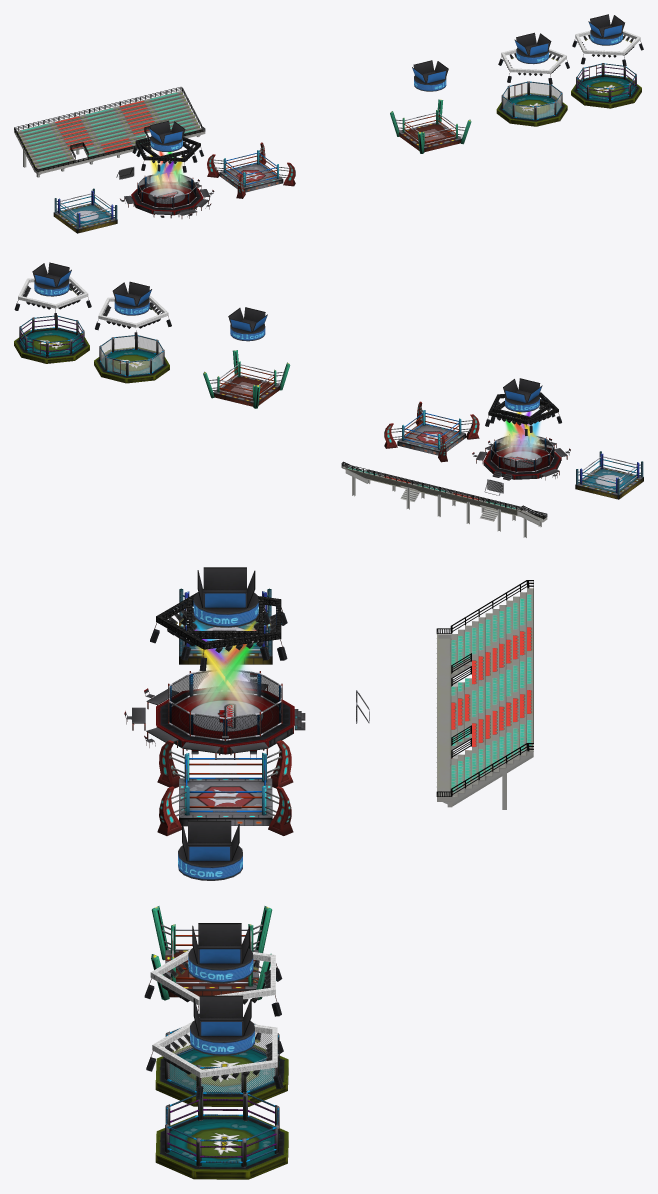
The model's file is street-arena.glb.
3 views of the same model, one above another, from view 1: azimuth 30°, elevation 25°; view 2: azimuth 150°, elevation 25°; view 3: azimuth 270°, elevation 25° (orthographic). The views are drawn at different scales.
Parts seen in each view (by area): view 1: cartoon boxing arena_ stands, cartoon boxing arena 1, cartoon boxing arena 3, cartoon boxing arena 4, cartoon boxing arena 2, cartoon boxing arena 5, cartoon boxing arena 6, cartoon boxing arena_stands fence, cartoon boxing arena 2_fence, cartoon boxing arena 5_Led, cartoon boxing arena 3_Led, cartoon boxing arena 2_Led (+9 smaller); view 2: cartoon boxing arena 3, cartoon boxing arena 1, cartoon boxing arena_ stands, cartoon boxing arena 4, cartoon boxing arena 2, cartoon boxing arena 5, cartoon boxing arena 6, cartoon boxing arena 2_fence, cartoon boxing arena 3_Led, cartoon boxing arena 2_Led, cartoon boxing arena 5_Led, cartoon boxing arena 1_led (+8 smaller); view 3: cartoon boxing arena_ stands, cartoon boxing arena 3, cartoon boxing arena 1, cartoon boxing arena 4, cartoon boxing arena 2, cartoon boxing arena 1_led, cartoon boxing arena 3_Led, cartoon boxing arena 2_Led, cartoon boxing arena 5_Led, cartoon boxing arena 5, cartoon boxing arena 1_Fecen, cartoon boxing arena 3_light systems (+8 smaller).
Part boxes in pixels (bbox=[...]): cartoon boxing arena_ stands: bbox=[14, 91, 205, 177]; cartoon boxing arena 1: bbox=[124, 174, 210, 218]; cartoon boxing arena 3: bbox=[571, 63, 641, 108]; cartoon boxing arena 4: bbox=[207, 142, 295, 198]; cartoon boxing arena 2: bbox=[496, 81, 567, 126]; cartoon boxing arena 5: bbox=[390, 99, 471, 153]; cartoon boxing arena 6: bbox=[53, 188, 117, 233]; cartoon boxing arena_stands fence: bbox=[14, 87, 205, 172]; cartoon boxing arena 2_fence: bbox=[503, 81, 561, 118]; cartoon boxing arena 5_Led: bbox=[412, 60, 448, 91]; cartoon boxing arena 3_Led: bbox=[588, 14, 624, 45]; cartoon boxing arena 2_Led: bbox=[514, 32, 551, 64]; cartoon boxing arena 3: bbox=[14, 315, 89, 363]; cartoon boxing arena 1: bbox=[476, 434, 567, 480]; cartoon boxing arena_ stands: bbox=[342, 466, 547, 537]; cartoon boxing arena 4: bbox=[384, 401, 479, 462]; cartoon boxing arena 2: bbox=[94, 334, 169, 383]; cartoon boxing arena 5: bbox=[203, 350, 290, 408]; cartoon boxing arena 6: bbox=[575, 451, 643, 499]; cartoon boxing arena 2_fence: bbox=[100, 335, 163, 375]; cartoon boxing arena 3_Led: bbox=[32, 262, 71, 296]; cartoon boxing arena 2_Led: bbox=[112, 281, 151, 315]; cartoon boxing arena 5_Led: bbox=[228, 307, 267, 341]; cartoon boxing arena 1_led: bbox=[503, 378, 542, 412]; cartoon boxing arena_ stands: bbox=[437, 588, 533, 809]; cartoon boxing arena 3: bbox=[155, 1092, 288, 1179]; cartoon boxing arena 1: bbox=[146, 670, 294, 759]; cartoon boxing arena 4: bbox=[157, 740, 293, 835]; cartoon boxing arena 2: bbox=[155, 1024, 288, 1106]; cartoon boxing arena 1_led: bbox=[193, 567, 258, 627]; cartoon boxing arena 3_Led: bbox=[190, 995, 254, 1055]; cartoon boxing arena 2_Led: bbox=[188, 923, 253, 983]; cartoon boxing arena 5_Led: bbox=[178, 820, 242, 880]; cartoon boxing arena 5: bbox=[151, 906, 272, 1000]; cartoon boxing arena 1_Fecen: bbox=[169, 672, 281, 739]; cartoon boxing arena 3_light systems: bbox=[146, 1020, 283, 1099].
Size of the model in its own units: 44.78 by 5.75 by 13.89.
Materials: 16 (16 with a texture image).
